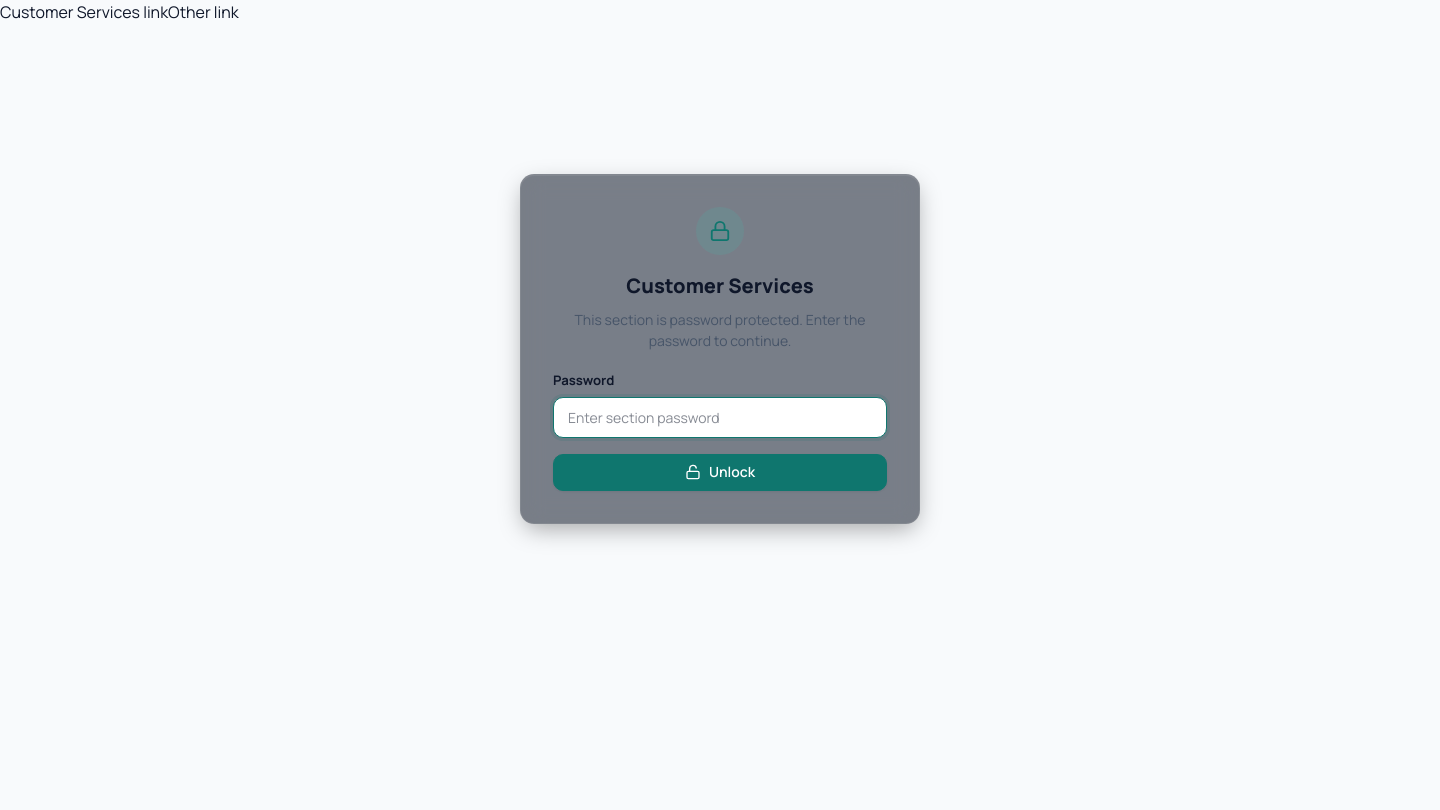
Test: CustomerServices › blocks saving without a name or amount
The image size is (1440, 810).
Type "secret" into the password field labelled "Password". click: x=720, y=417
box: [553, 397, 887, 438]
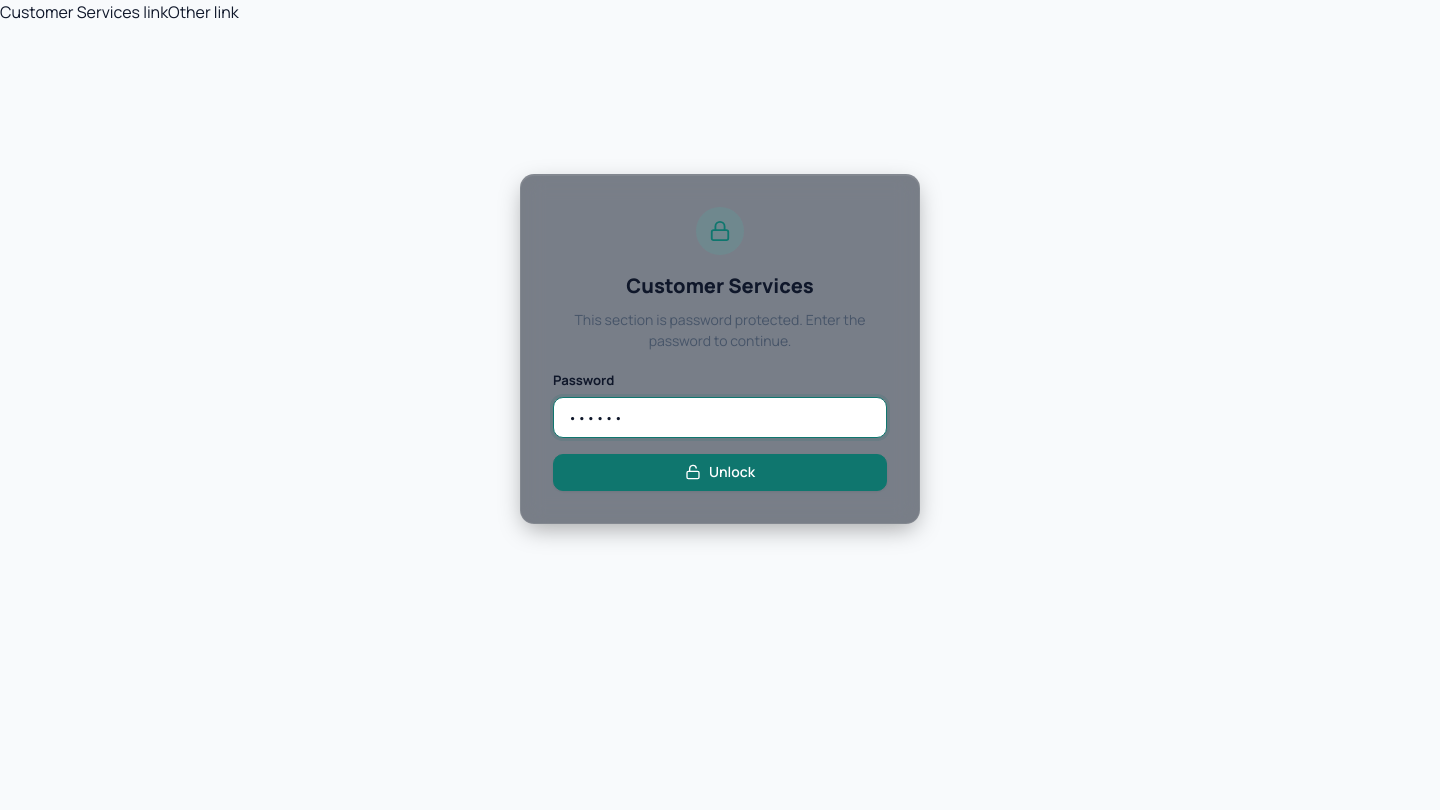
Click the button "Unlock". click: x=720, y=472
box: [553, 454, 887, 491]
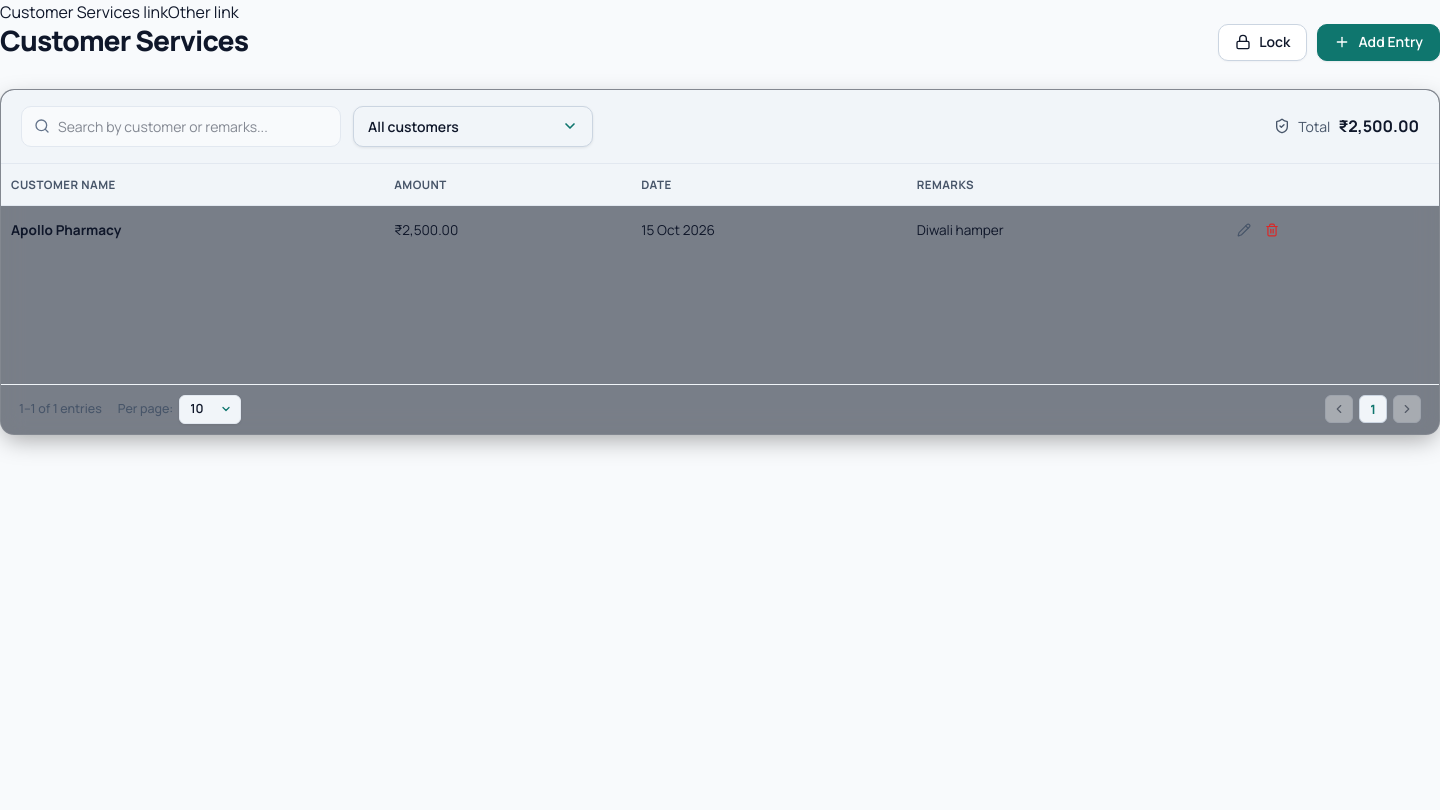
Expected: the text "Diwali hamper" is shown, [907, 206, 1221, 254]
Click the button "Add Entry". click: x=1379, y=42
box: [1317, 24, 1439, 61]
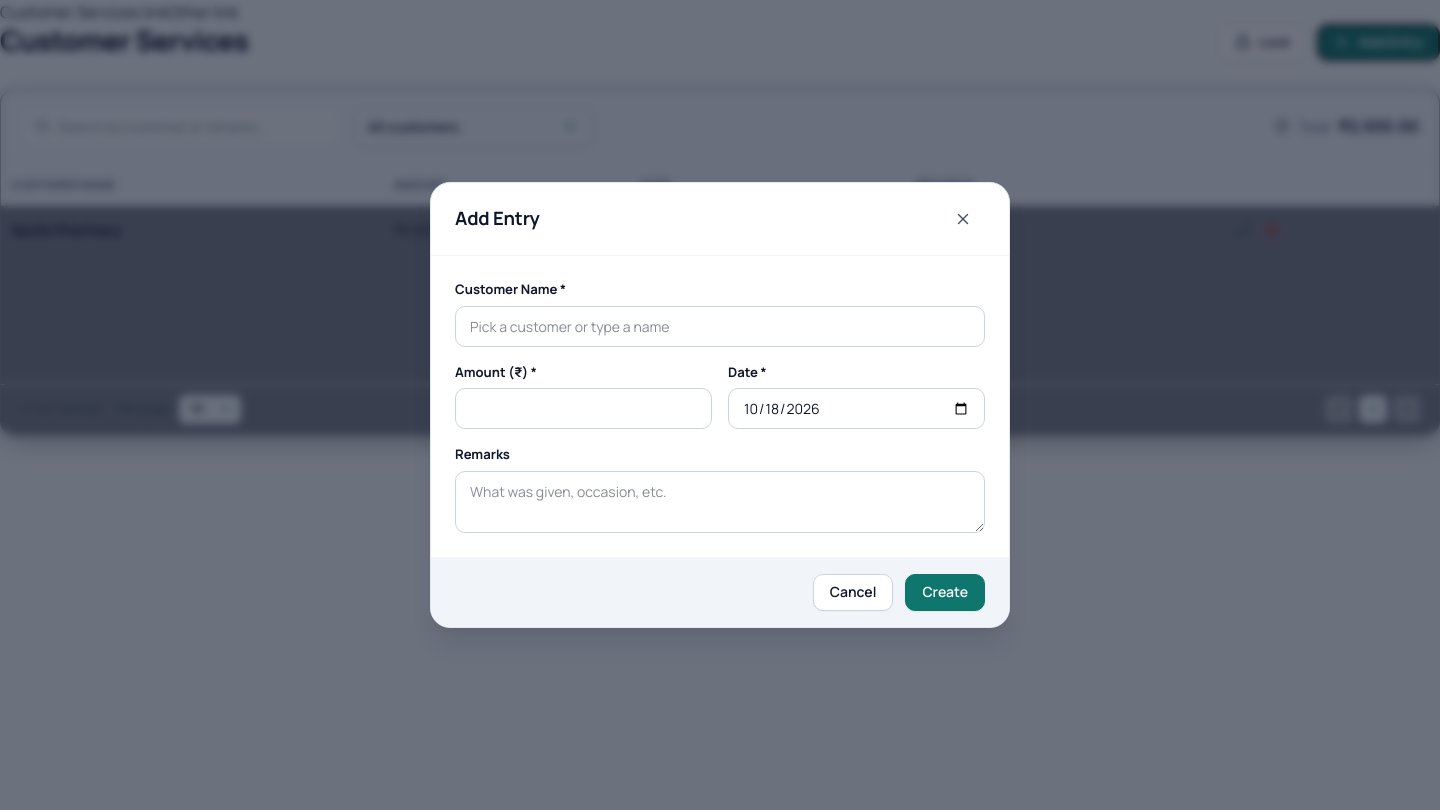
Click the button "Create". click: x=945, y=592
box: [905, 574, 985, 611]
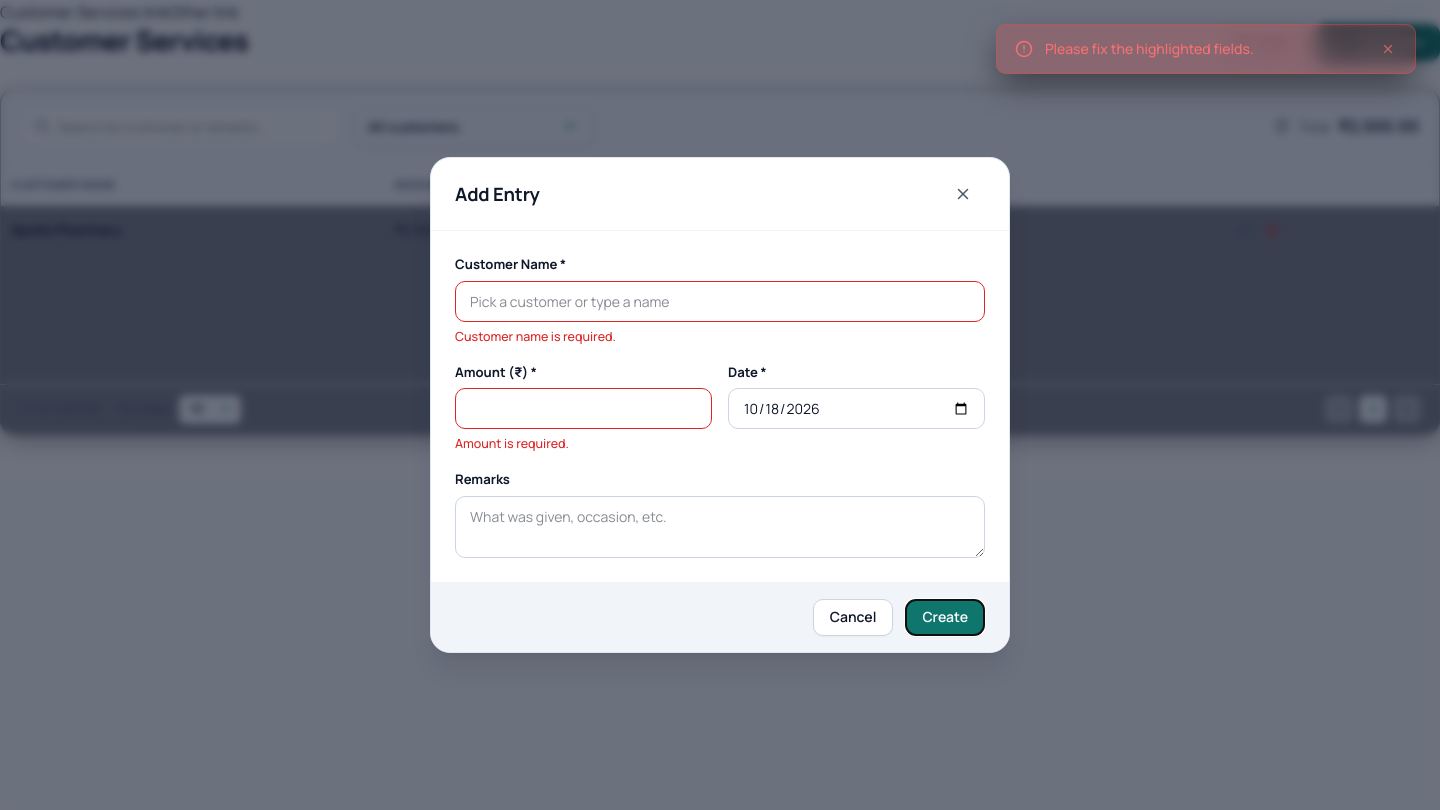
Expected: the text "Customer name is required." is shown, [455, 328, 616, 345]
Expected: the text "Amount is required." is shown, [455, 435, 569, 452]
